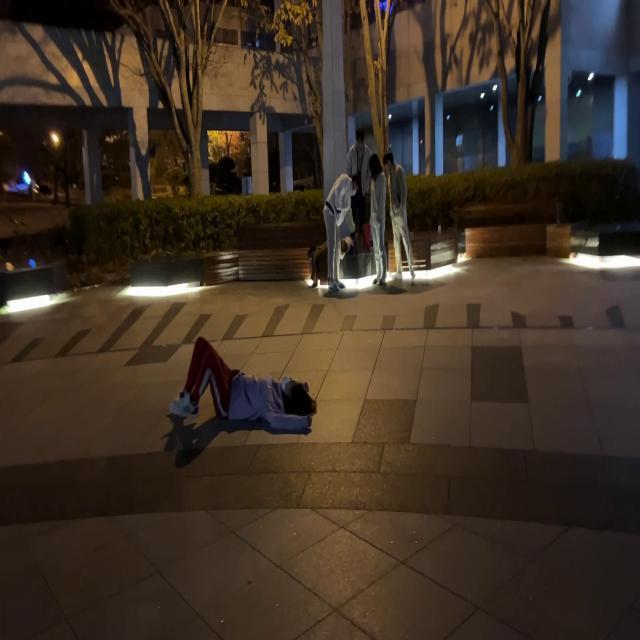Fall: (169, 339, 317, 434)
Stand: (384, 152, 415, 280), (324, 173, 355, 294), (370, 154, 388, 284)
